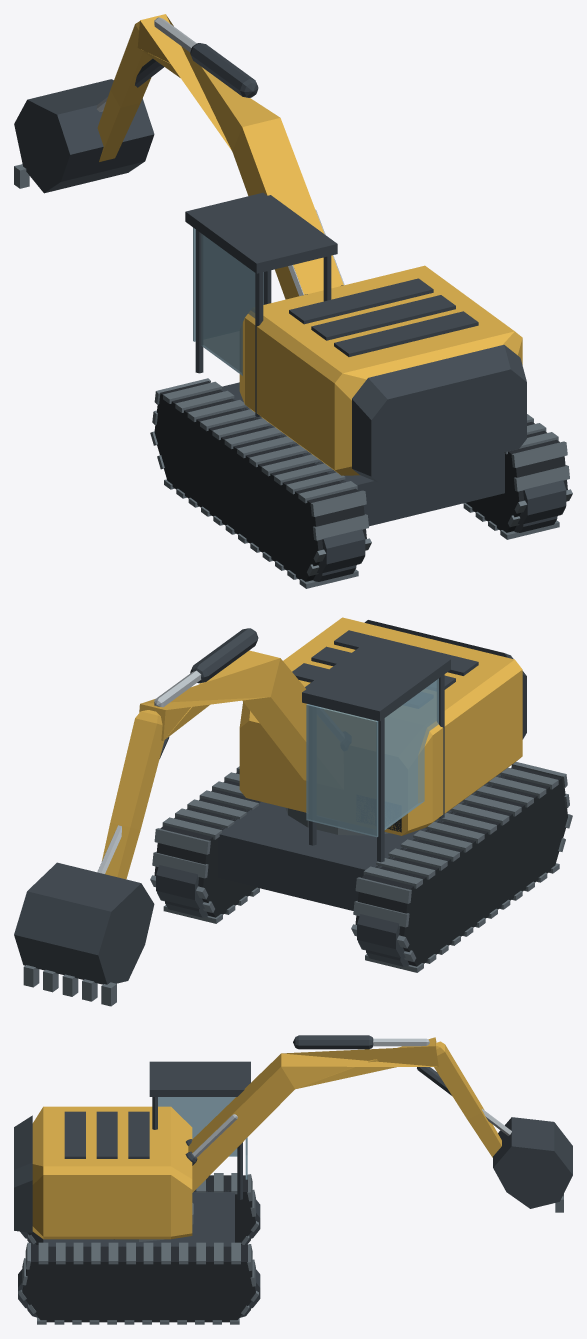
File: LAND_11.obj
The picture shows the model from 3 angles, top to bottom: view 1: azimuth 30°, elevation 25°; view 2: azimuth 150°, elevation 25°; view 3: azimuth 270°, elevation 25°; orthographic projection. The views are drawn at different scales.
Parts seen in each view (by area): view 1: track_L, upper_house, counterweight, boom, cab, bucket, engine_vents, track_R, undercarriage, cab_glass, stick, cyl_stick; view 2: track_L, upper_house, cab_glass, bucket, undercarriage, track_R, cab, boom, stick, engine_vents, cyl_stick, bucket_teeth (+2 smaller); view 3: track_R, upper_house, boom, bucket, cab, engine_vents, undercarriage, stick, track_L, counterweight, cab_glass, cyl_stick (+2 smaller).
Part boxes in pixels (bbox=[...]): track_L: bbox=[150, 378, 371, 588]; upper_house: bbox=[239, 265, 522, 475]; counterweight: bbox=[352, 345, 526, 482]; boom: bbox=[137, 14, 343, 299]; cab: bbox=[185, 192, 337, 417]; bucket: bbox=[14, 79, 154, 193]; engine_vents: bbox=[289, 278, 478, 356]; track_R: bbox=[463, 414, 572, 539]; undercarriage: bbox=[220, 382, 504, 526]; cab_glass: bbox=[193, 227, 263, 375]; stick: bbox=[97, 21, 152, 161]; cyl_stick: bbox=[154, 17, 258, 97]; track_L: bbox=[351, 762, 572, 972]; upper_house: bbox=[239, 617, 522, 835]; cab_glass: bbox=[306, 678, 438, 837]; bucket: bbox=[14, 862, 154, 984]; undercarriage: bbox=[217, 774, 504, 910]; track_R: bbox=[150, 766, 260, 923]; cab: bbox=[302, 639, 450, 862]; boom: bbox=[139, 650, 307, 780]; stick: bbox=[102, 710, 164, 879]; engine_vents: bbox=[292, 630, 478, 689]; cyl_stick: bbox=[154, 628, 258, 707]; bucket_teeth: bbox=[23, 965, 116, 1006]; track_R: bbox=[18, 1242, 260, 1324]; upper_house: bbox=[32, 1106, 192, 1239]; boom: bbox=[188, 1037, 438, 1192]; bucket: bbox=[493, 1117, 572, 1208]; cab: bbox=[149, 1061, 250, 1199]; engine_vents: bbox=[64, 1111, 149, 1158]; undercarriage: bbox=[43, 1190, 234, 1246]; stick: bbox=[434, 1041, 501, 1157]; track_L: bbox=[20, 1173, 260, 1244]; counterweight: bbox=[14, 1115, 32, 1232]; cab_glass: bbox=[158, 1097, 247, 1179]; cyl_stick: bbox=[293, 1035, 429, 1049].
Bounding box in the file's own units: 3.91 × 5.07 × 10.5.
